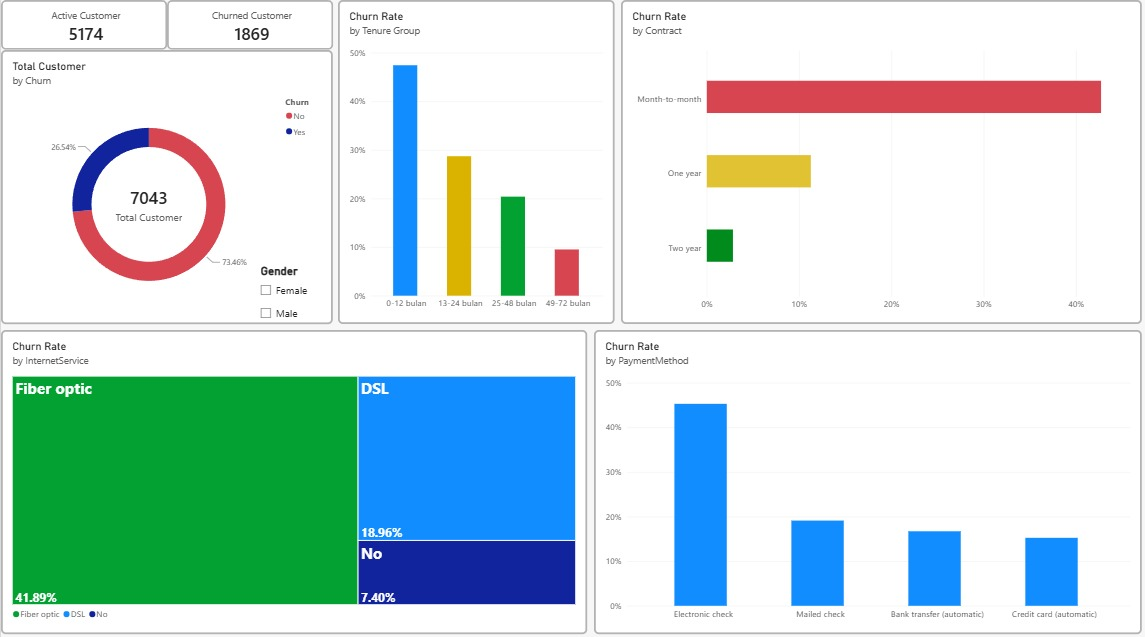

The dashboard page shown, as its layout file describes it:
{"tool":"powerbi","page":{"name":"Page 1","canvas":[1920,1080],"ordinal":0},"visuals":[{"type":"cardVisual","fields":{"Data":["telco_customer_churn_clean.Total Customer"]},"box":[277.2,0,277.2,83.2],"z":0},{"type":"donutChart","fields":{"Category":["telco_customer_churn_clean.Churn"],"Y":["telco_customer_churn_clean.Total Customer"]},"box":[0,83.3,552.9,456.7],"z":1000},{"type":"slicer","fields":{"Values":["telco_customer_churn_clean.gender"]},"box":[425,440,124,100.7],"z":2000},{"type":"cardVisual","fields":{"Data":["telco_customer_churn_clean.Total Customer"]},"box":[0,0,277.2,83.2],"z":2001},{"type":"clusteredColumnChart","fields":{"Category":["telco_customer_churn_clean.Tenure Group"],"Y":["telco_customer_churn_clean.Churn Rate"]},"box":[561.7,0,461,539.8],"z":2002},{"type":"barChart","fields":{"Category":["telco_customer_churn_clean.Contract"],"Y":["telco_customer_churn_clean.Churn Rate"]},"box":[1033.3,0,868.3,540],"z":2003},{"type":"treemap","fields":{"Group":["telco_customer_churn_clean.InternetService"],"Values":["telco_customer_churn_clean.Churn Rate"]},"box":[0,550,976.7,506.7],"z":2004},{"type":"columnChart","fields":{"Category":["telco_customer_churn_clean.PaymentMethod"],"Y":["telco_customer_churn_clean.Churn Rate"]},"box":[988.3,550,913.3,506.7],"z":2005}]}

Visuals, with their boxes in screenshot pixels (x1, y1, x2, y2), scaled from the page's 1920x1080 canvas onto the 1145x637 screenshot:
cardVisual - telco_customer_churn_clean.Total Customer: BBox(165, 0, 331, 49)
donutChart - telco_customer_churn_clean.Churn x telco_customer_churn_clean.Total Customer: BBox(0, 49, 330, 318)
slicer - telco_customer_churn_clean.gender: BBox(253, 260, 327, 319)
cardVisual - telco_customer_churn_clean.Total Customer: BBox(0, 0, 165, 49)
clusteredColumnChart - telco_customer_churn_clean.Tenure Group x telco_customer_churn_clean.Churn Rate: BBox(335, 0, 610, 318)
barChart - telco_customer_churn_clean.Contract x telco_customer_churn_clean.Churn Rate: BBox(616, 0, 1134, 318)
treemap - telco_customer_churn_clean.InternetService x telco_customer_churn_clean.Churn Rate: BBox(0, 324, 582, 623)
columnChart - telco_customer_churn_clean.PaymentMethod x telco_customer_churn_clean.Churn Rate: BBox(589, 324, 1134, 623)
